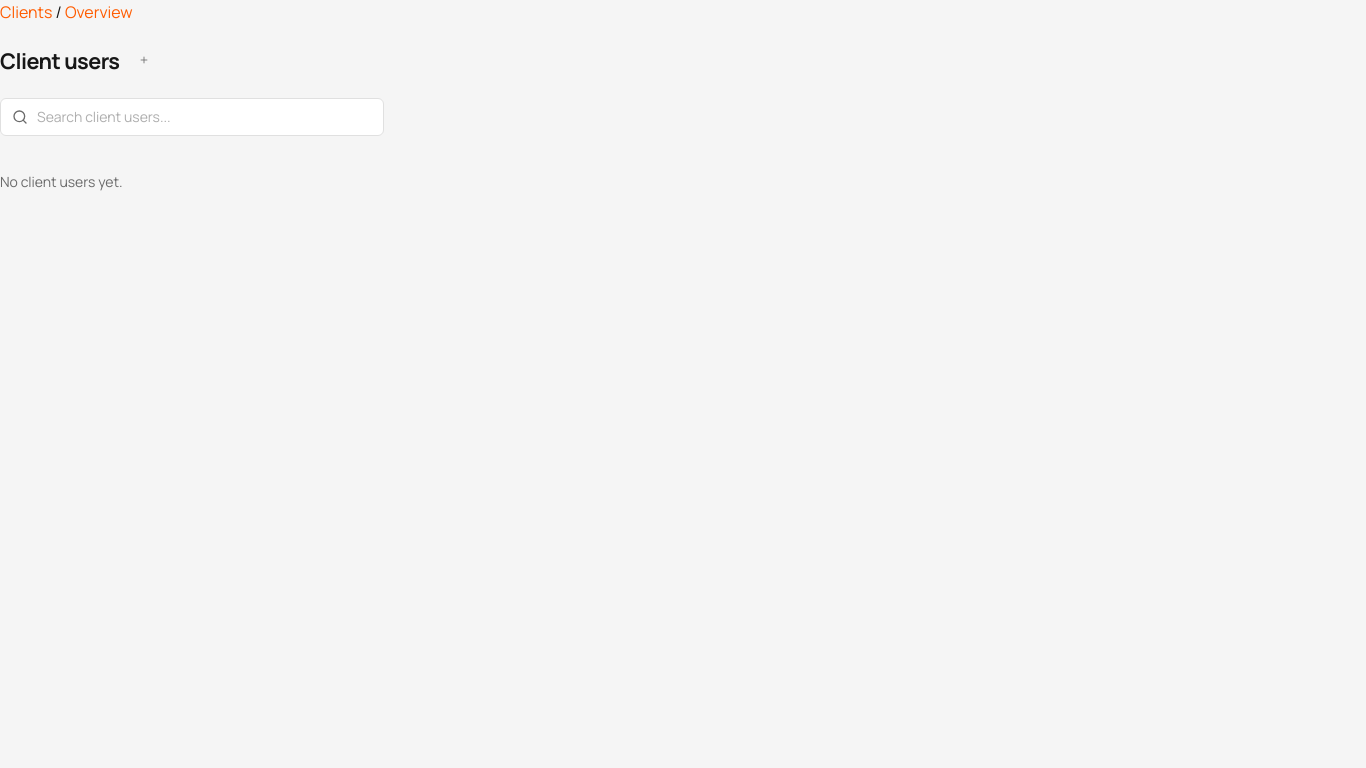
it: CreateClientUserForm › creates a client user and refreshes the list
Expected: the text "No client users yet." is shown, [0,172,123,191]
Click the button named "Invite client user" at [144, 60], box [128,44,160,76]
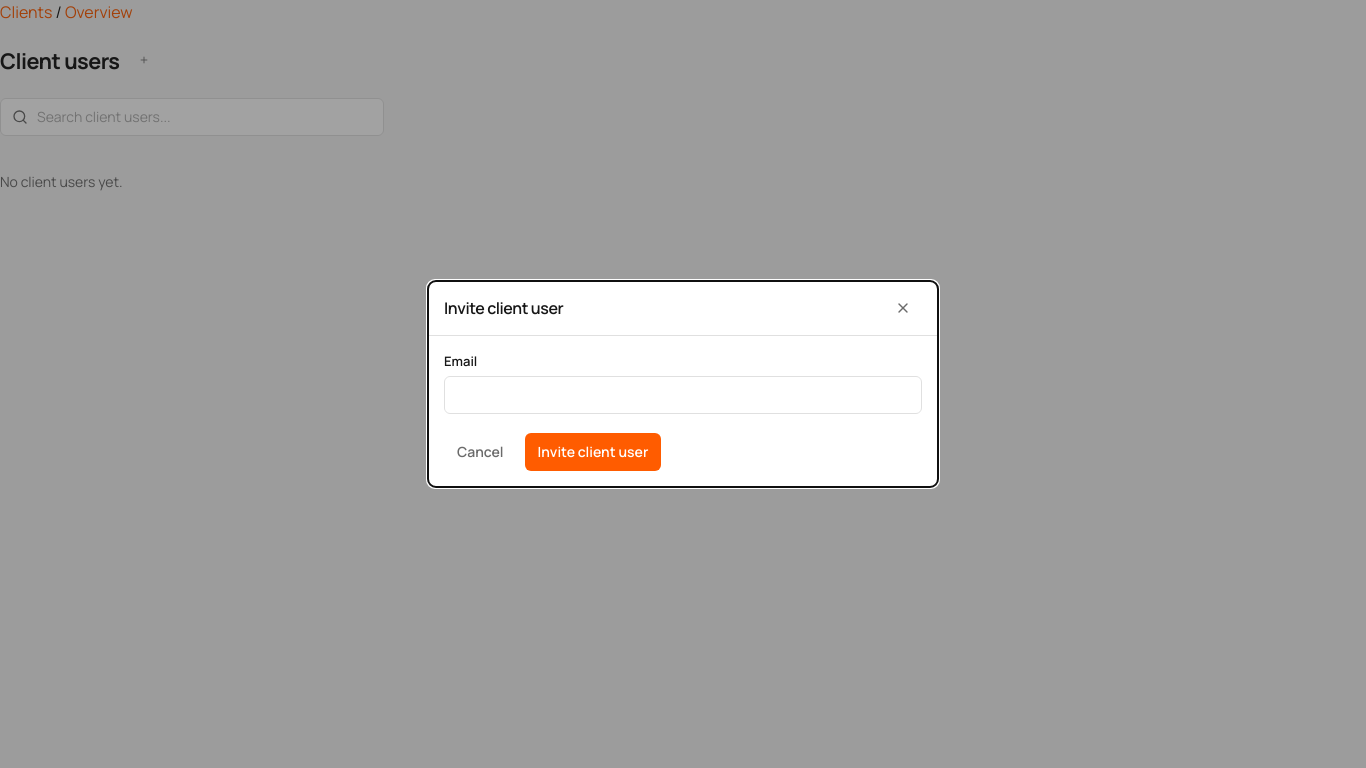
Type "pat@northwind.test" into the field labelled "Email" at [683, 395], box [444,376,922,414]
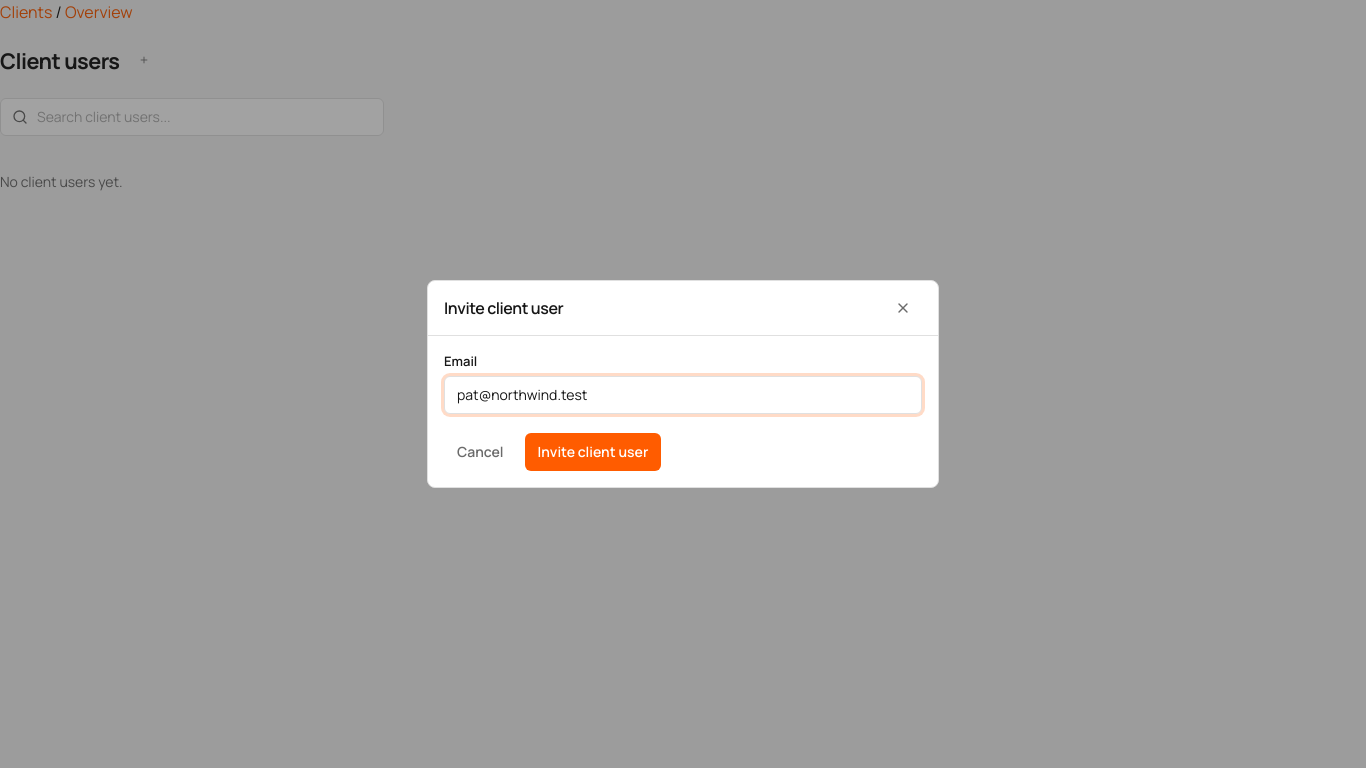
Click the button "Invite client user" at [593, 452], box [524,433,661,471]
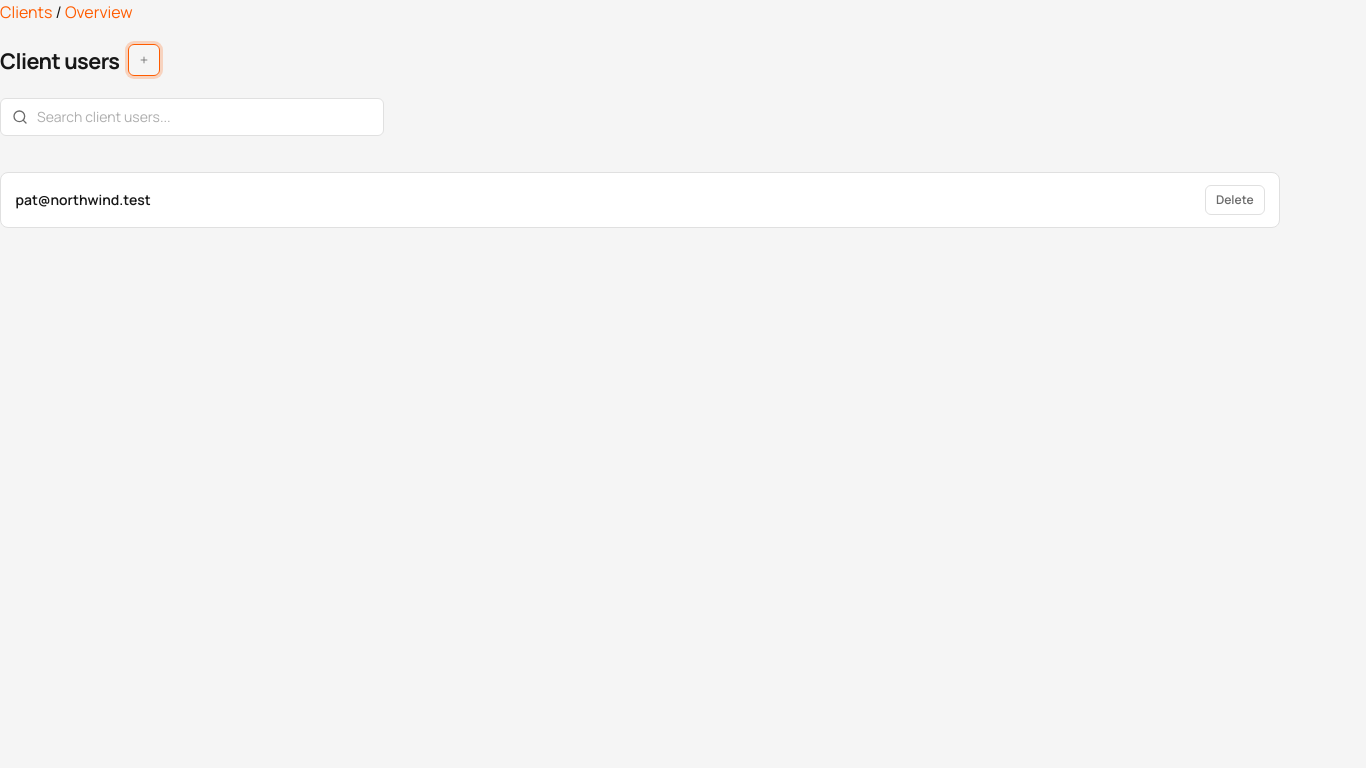
Expected: the text "pat@northwind.test" is shown, [15,190,151,210]
Expected: the dialog is gone
